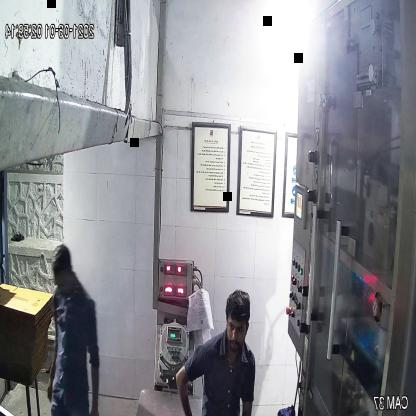no_goggles: (222, 320, 250, 338)
